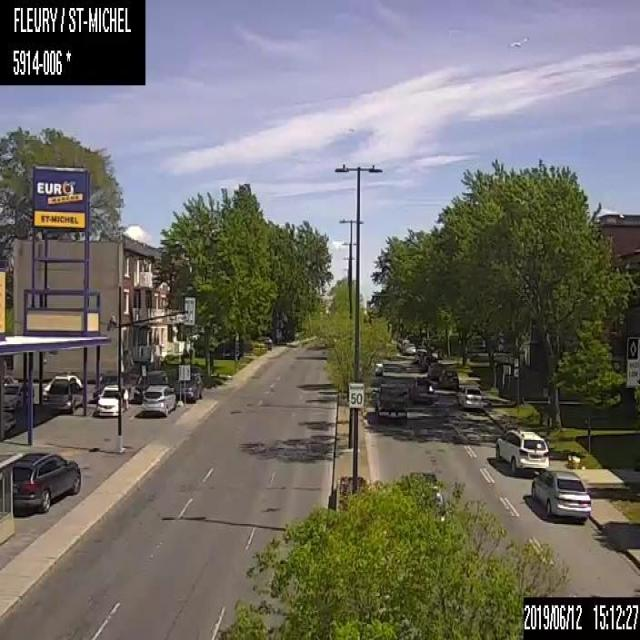vehicle: (9, 452, 80, 512), (530, 469, 590, 519), (494, 427, 548, 475), (410, 470, 444, 523), (371, 382, 406, 420), (43, 378, 82, 412), (141, 384, 175, 416), (134, 369, 167, 401), (43, 373, 82, 400), (96, 384, 127, 415), (174, 372, 203, 402), (2, 382, 34, 408), (409, 376, 436, 404), (457, 384, 483, 411), (438, 369, 458, 387), (2, 410, 16, 431), (428, 360, 443, 378), (421, 355, 435, 369), (414, 348, 427, 362), (403, 342, 415, 354), (375, 360, 382, 374)
